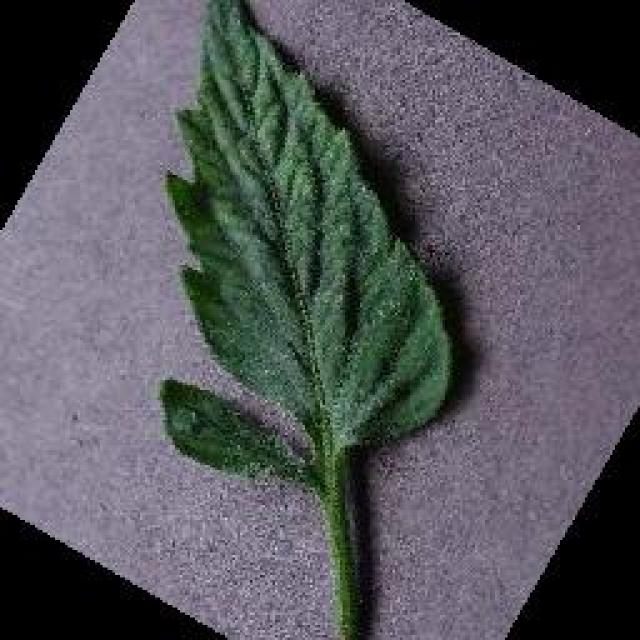Tomato___Tomato_mosaic_virus: (160, 0, 450, 638)
